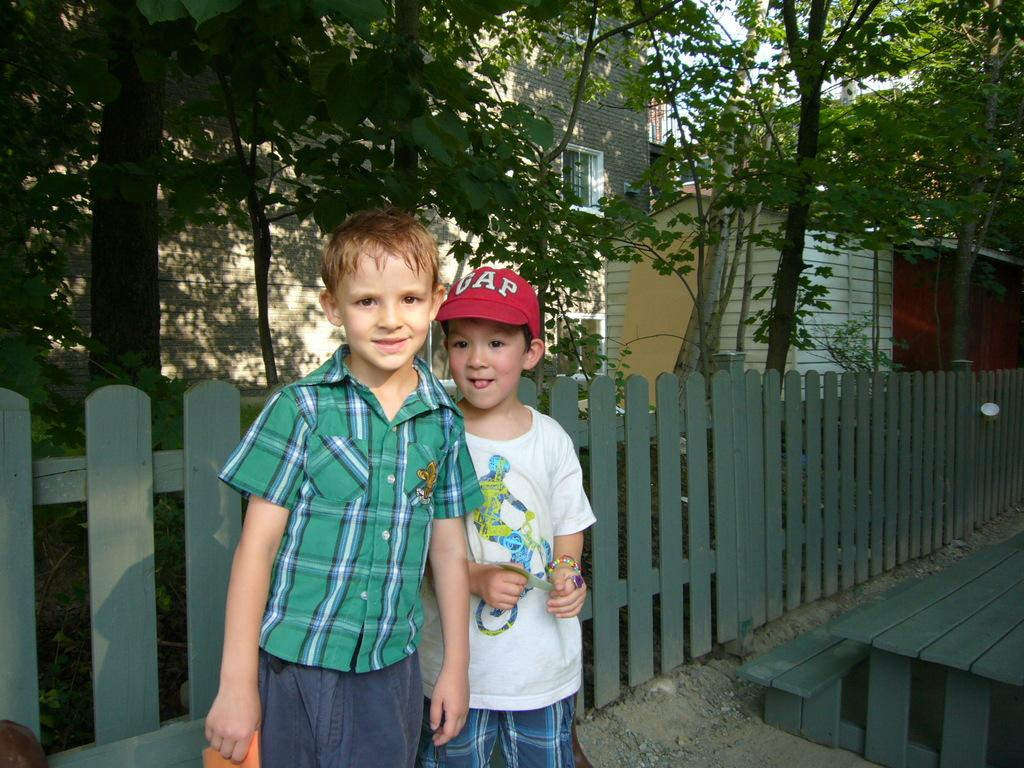Hat: (434, 267, 542, 341)
